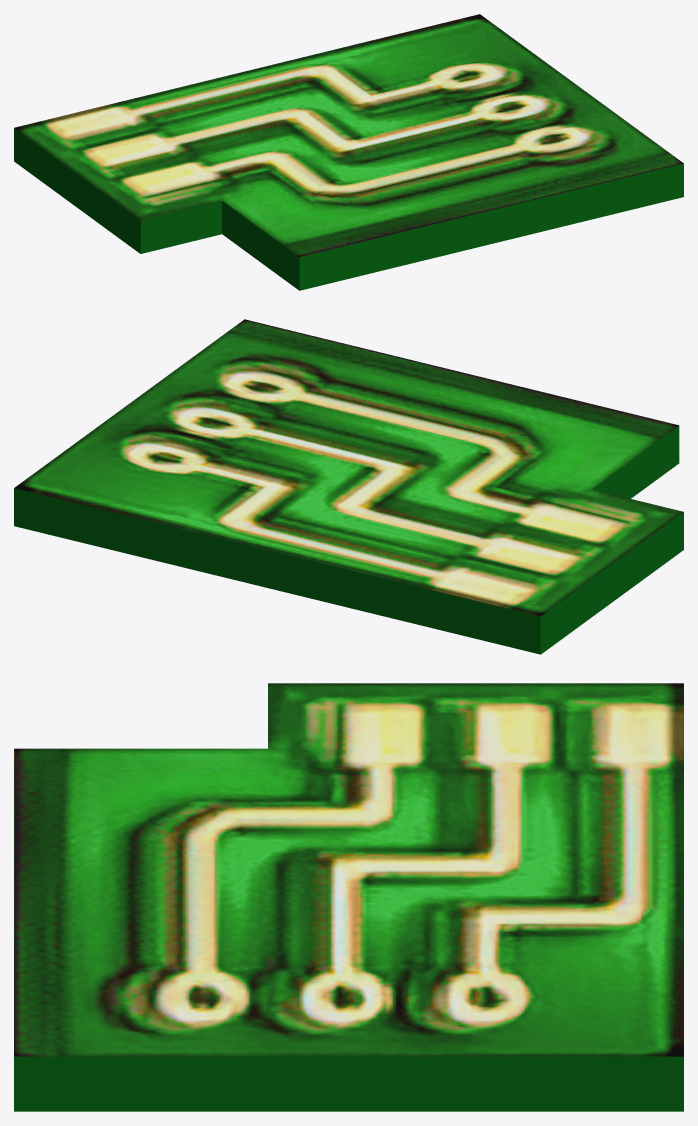
The model's file is static.glb.
3 renders of one model, top to bottom at view 1: azimuth 30°, elevation 25°; view 2: azimuth 150°, elevation 25°; view 3: azimuth 270°, elevation 25°, orthographic. The views are drawn at different scales.
Visible parts, largest first — view 1: Boole; view 2: Boole; view 3: Boole.
Boxes of the visible parts, <box> form: Boole: <box>14,14,683,290</box>; Boole: <box>14,319,683,654</box>; Boole: <box>14,683,683,1111</box>.
Size of the model in its own units: 0.9601 by 0.0662 by 0.7281.
Materials: 2 (2 with a texture image).
